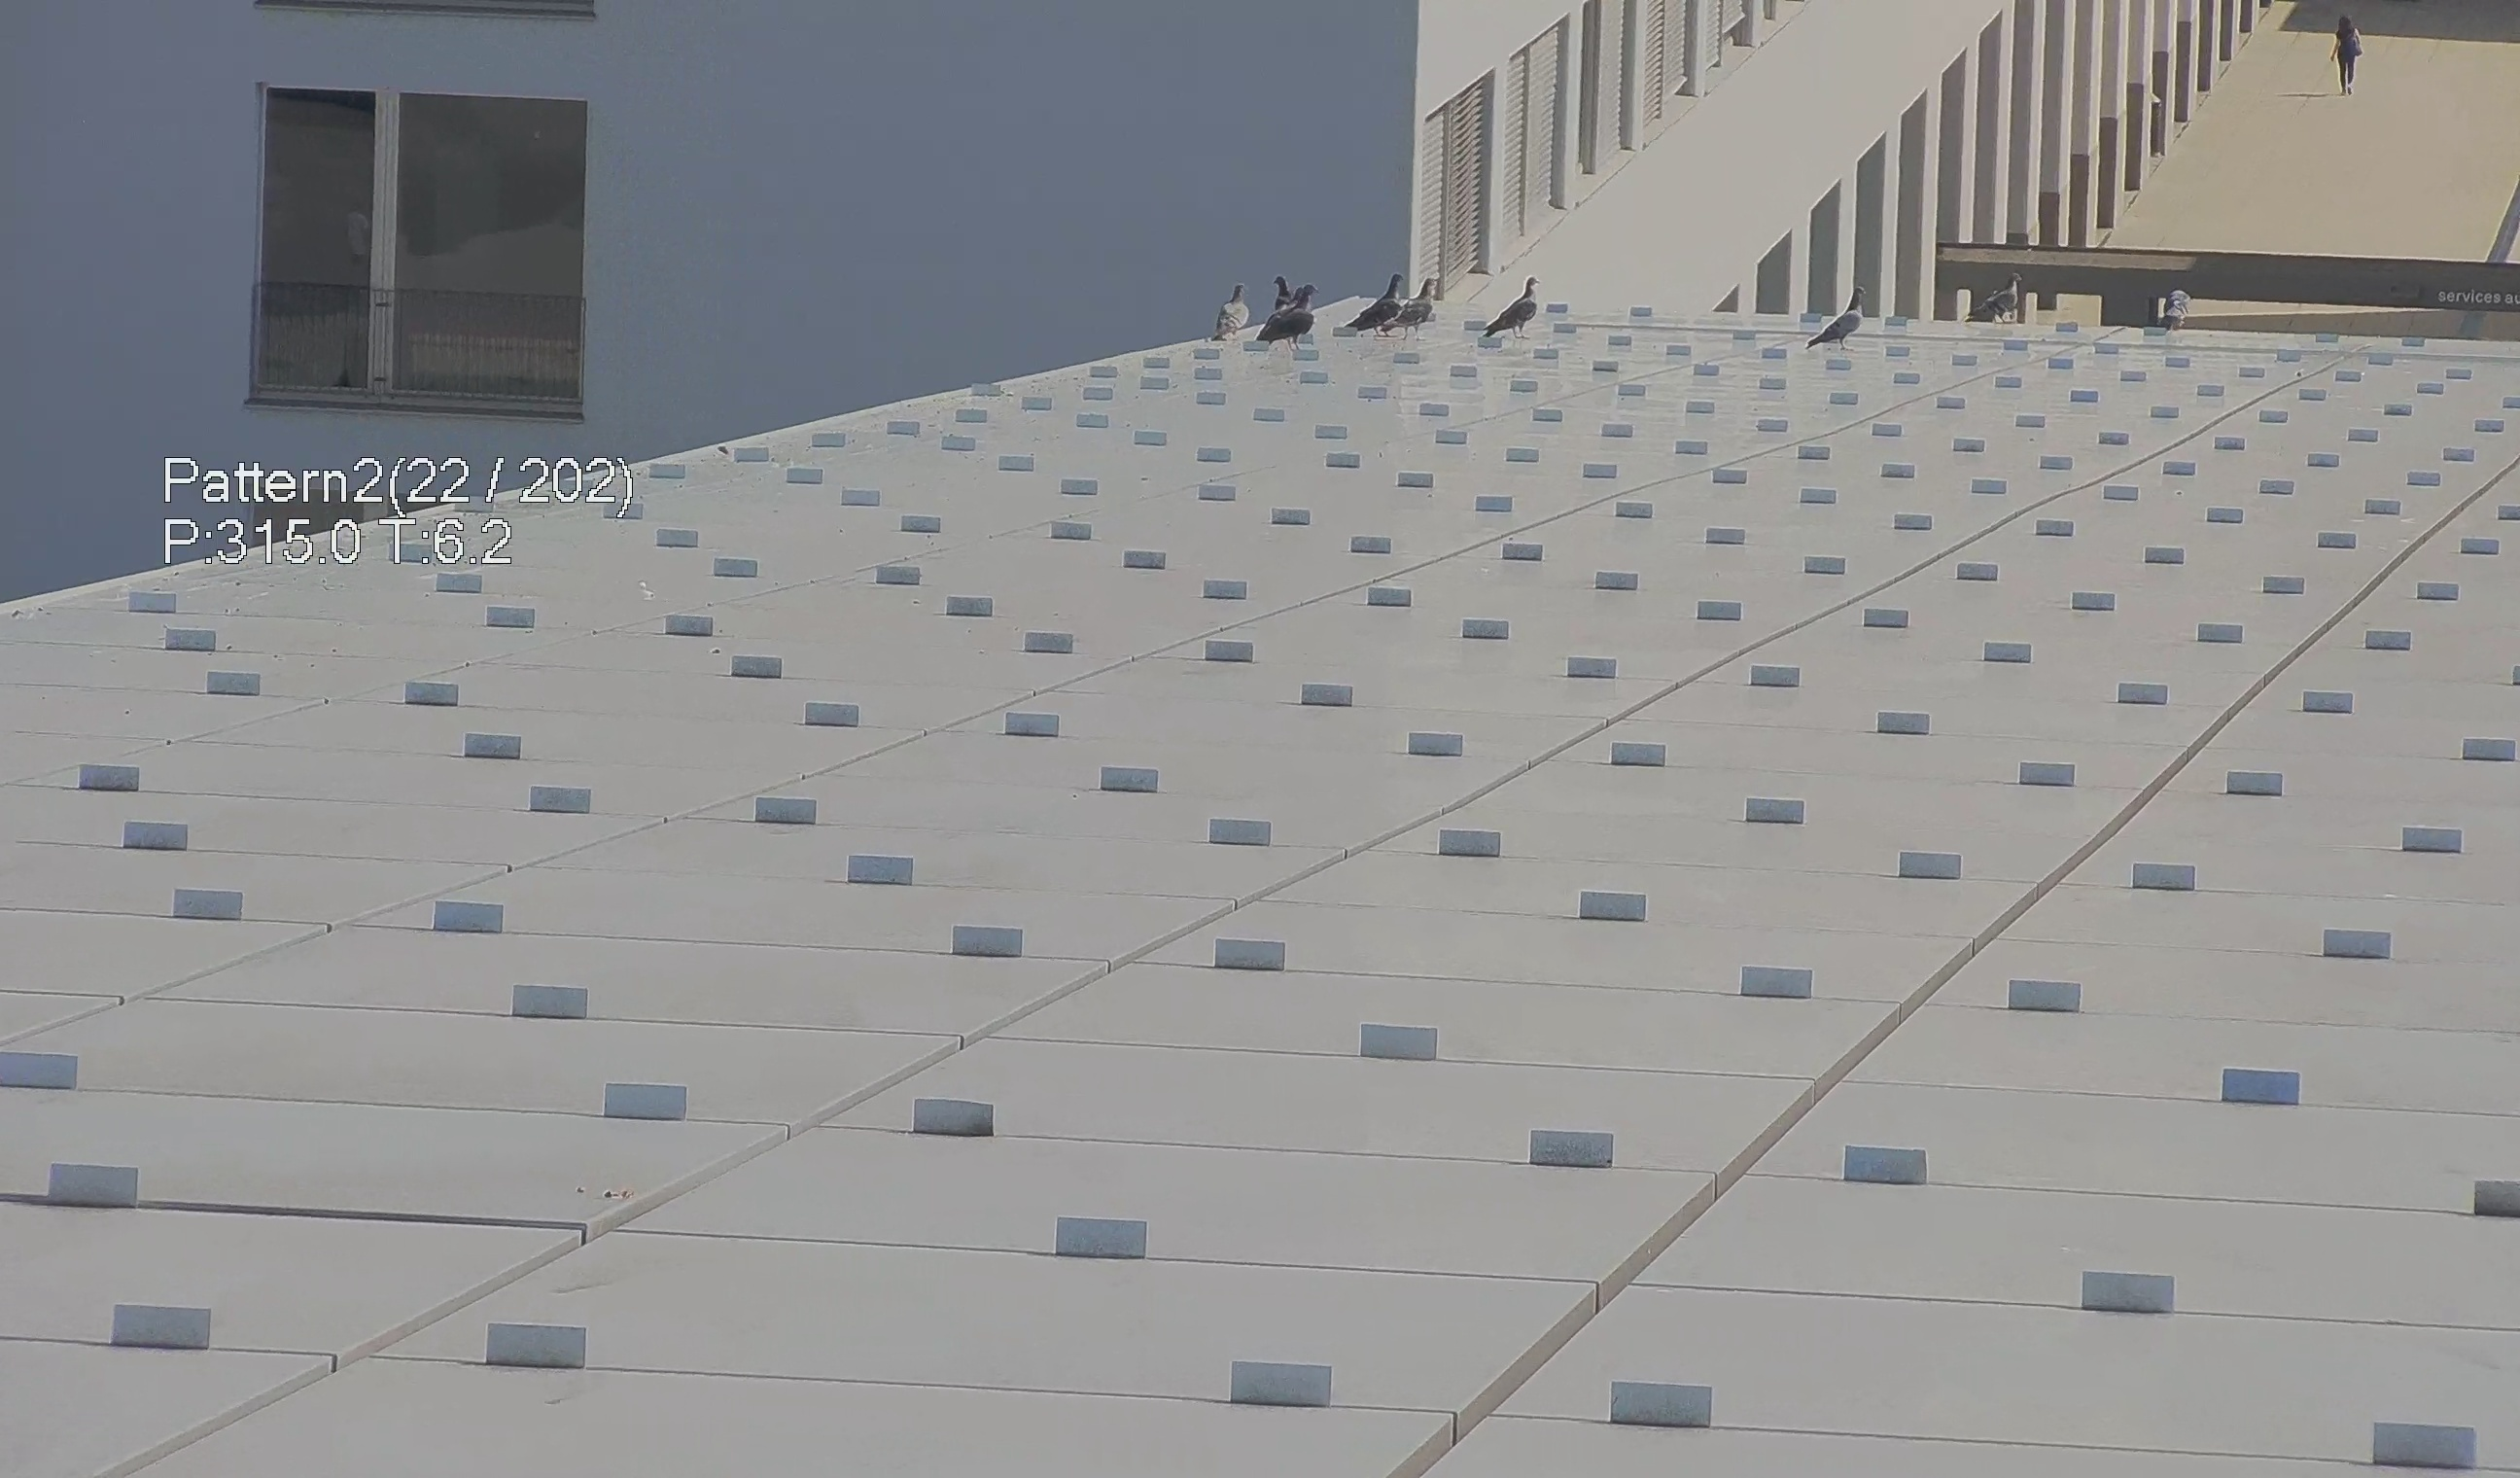Pigeon: (1474, 273, 1553, 338), (1811, 283, 1878, 359), (1347, 264, 1407, 336), (1203, 278, 1261, 347), (1273, 274, 1328, 343), (1387, 278, 1451, 334), (1973, 271, 2022, 322), (2154, 285, 2202, 338), (1268, 269, 1298, 310)
